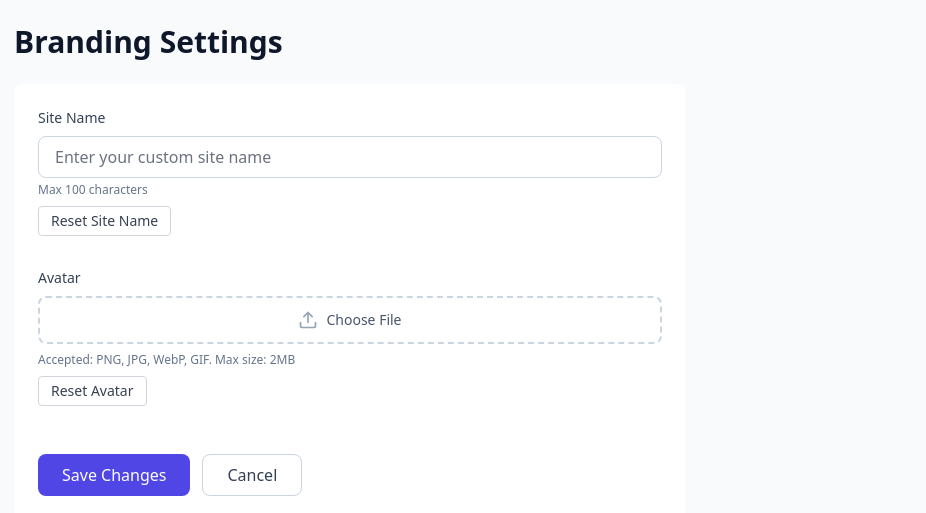
it: BrandingPage - Error Message Extraction (BKNG-0109) › CT-02: Reset Handler - Error Message Extraction › should extract error.message from reset error and display in toast
Click the button "Reset Site Name": (105, 221) [38, 206, 171, 236]
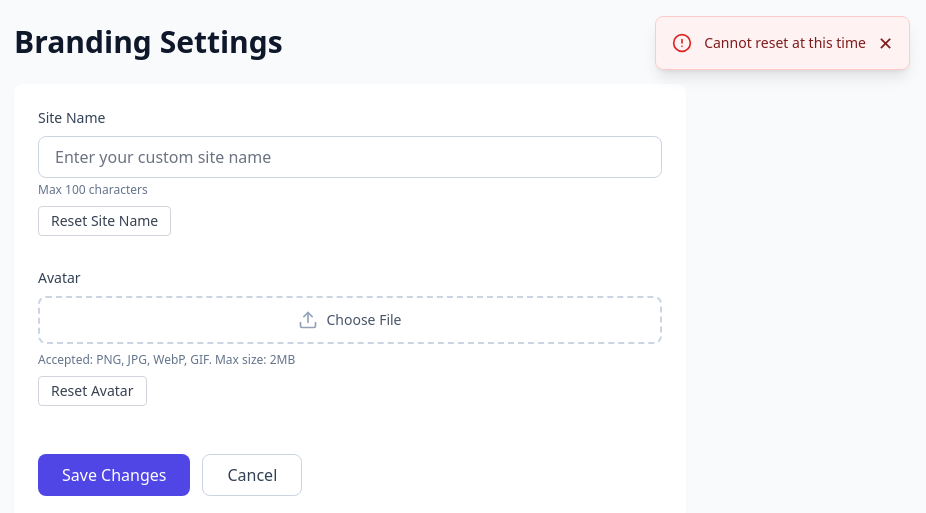
Check: the text "Cannot reset at this time" is shown, box [704, 33, 866, 53]
